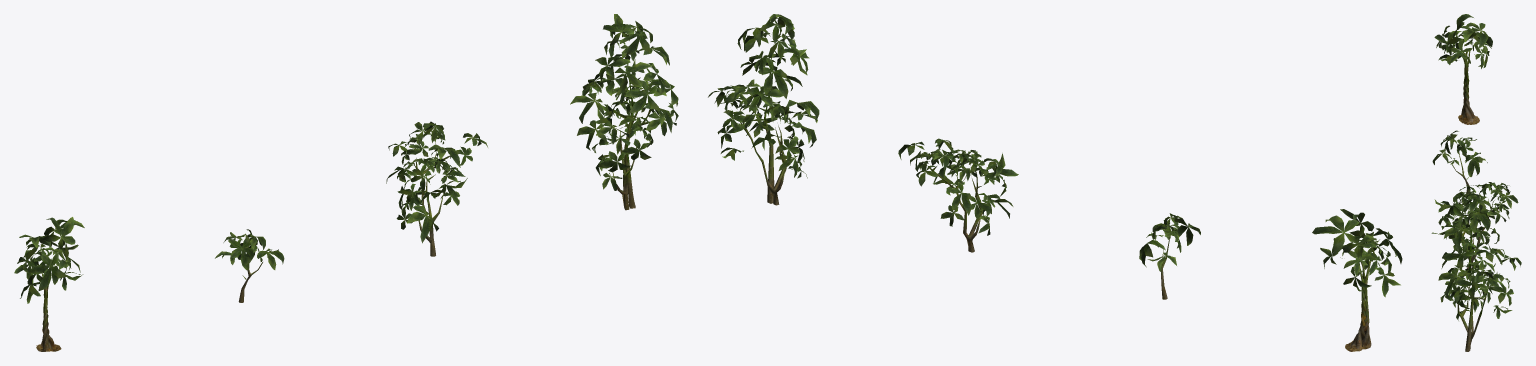
Rendered from pachira_aquatica_01.glb.
3 views of the same model, side by side, from view 1: azimuth 30°, elevation 25°; view 2: azimuth 150°, elevation 25°; view 3: azimuth 270°, elevation 25° (orthographic). The views are drawn at different scales.
Parts seen in each view (by area): view 1: pachira_aquatica_01_leaves_d, pachira_aquatica_01_leaves_c, pachira_aquatica_01_leaves_a, pachira_aquatica_01_leaves_b, pachira_aquatica_01_bark_d, pachira_aquatica_01_bark_a; view 2: pachira_aquatica_01_leaves_d, pachira_aquatica_01_leaves_c, pachira_aquatica_01_leaves_a, pachira_aquatica_01_leaves_b, pachira_aquatica_01_bark_d, pachira_aquatica_01_bark_a, pachira_aquatica_01_bark_c; view 3: pachira_aquatica_01_leaves_d, pachira_aquatica_01_leaves_c, pachira_aquatica_01_leaves_a, pachira_aquatica_01_leaves_b, pachira_aquatica_01_bark_d, pachira_aquatica_01_bark_a, pachira_aquatica_01_bark_c, pachira_aquatica_01_bark_b.
Part boxes in pixels (x1,y1,x2,y2): pachira_aquatica_01_leaves_d: [570, 14, 678, 190]; pachira_aquatica_01_leaves_c: [386, 121, 487, 243]; pachira_aquatica_01_leaves_a: [14, 217, 84, 303]; pachira_aquatica_01_leaves_b: [215, 229, 284, 279]; pachira_aquatica_01_bark_d: [598, 45, 651, 210]; pachira_aquatica_01_bark_a: [36, 264, 61, 351]; pachira_aquatica_01_leaves_d: [708, 14, 819, 178]; pachira_aquatica_01_leaves_c: [898, 138, 1018, 235]; pachira_aquatica_01_leaves_a: [1312, 209, 1402, 297]; pachira_aquatica_01_leaves_b: [1139, 213, 1200, 274]; pachira_aquatica_01_bark_d: [732, 55, 793, 205]; pachira_aquatica_01_bark_a: [1345, 259, 1371, 351]; pachira_aquatica_01_bark_c: [927, 165, 983, 252]; pachira_aquatica_01_leaves_d: [1431, 191, 1521, 320]; pachira_aquatica_01_leaves_c: [1434, 182, 1518, 244]; pachira_aquatica_01_leaves_a: [1434, 14, 1492, 68]; pachira_aquatica_01_leaves_b: [1432, 130, 1487, 179]; pachira_aquatica_01_bark_d: [1457, 219, 1495, 351]; pachira_aquatica_01_bark_a: [1458, 48, 1479, 124]; pachira_aquatica_01_bark_c: [1456, 196, 1499, 268]; pachira_aquatica_01_bark_b: [1452, 151, 1470, 195].
Size of the model in its own units: 6.86 by 1.9 by 0.997.
2 materials, 2 textured.
